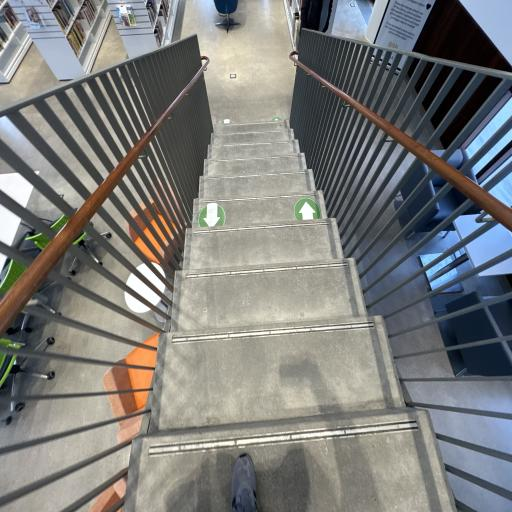Stairs: (124, 121, 455, 512)
